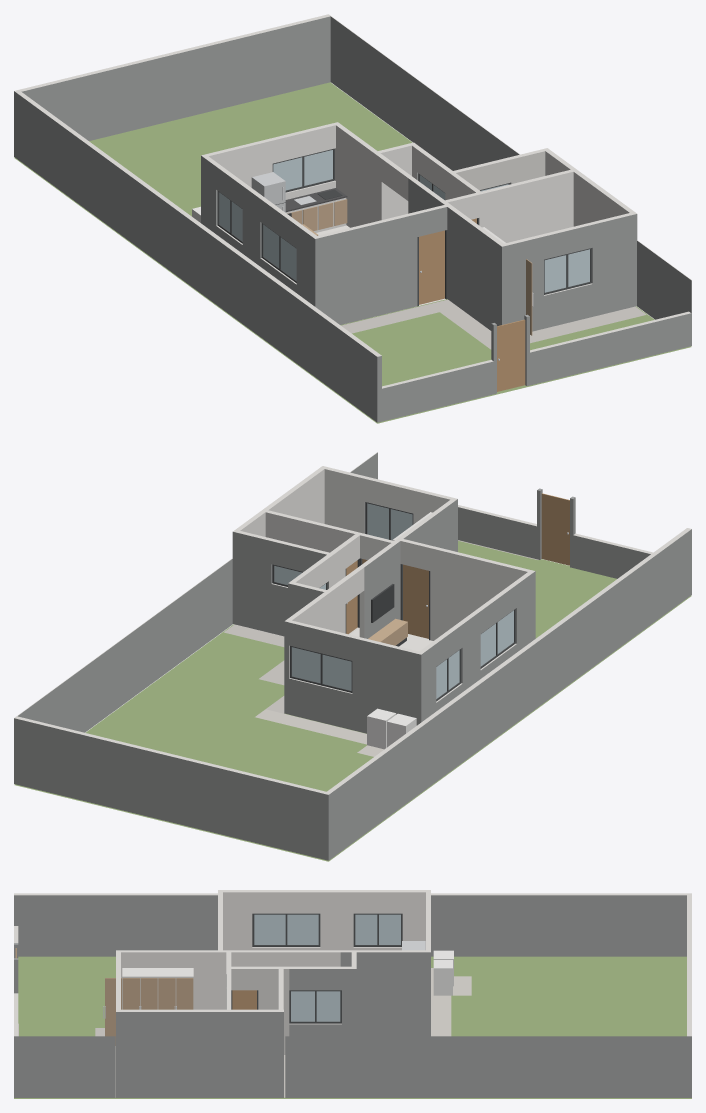
The model's file is casa.glb.
3 renders of one model, top to bottom at view 1: azimuth 30°, elevation 25°; view 2: azimuth 150°, elevation 25°; view 3: azimuth 270°, elevation 25°, orthographic. The views are drawn at different scales.
Parts seen in each view (by area): view 1: fachada, grama, parede, topo, vidro, concreto, revest, door3_swing__porta, esquadria, door1_swing__porta, madeira, inox; view 2: fachada, grama, parede, topo, vidro, revest, door3_swing__porta, esquadria, door1_swing__porta, louca, externo, concreto (+2 smaller); view 3: fachada, grama, parede, topo, vidro, madeira, revest, esquadria, externo, louca, armario, door2_swing__porta.
Boxes of the visible parts, bbox=[...] form: fachada: bbox=[14, 16, 691, 422]; grama: bbox=[14, 82, 691, 423]; parede: bbox=[209, 125, 629, 242]; topo: bbox=[14, 14, 691, 388]; vidro: bbox=[219, 150, 589, 292]; concreto: bbox=[341, 299, 646, 349]; revest: bbox=[456, 151, 545, 190]; door3_swing__porta: bbox=[497, 319, 525, 391]; esquadria: bbox=[217, 148, 591, 305]; door1_swing__porta: bbox=[419, 230, 444, 304]; madeira: bbox=[287, 199, 532, 335]; inox: bbox=[251, 172, 316, 212]; fachada: bbox=[14, 452, 691, 860]; grama: bbox=[14, 541, 691, 861]; parede: bbox=[240, 469, 527, 677]; topo: bbox=[14, 452, 691, 794]; vidro: bbox=[274, 503, 513, 698]; revest: bbox=[265, 512, 358, 634]; door3_swing__porta: bbox=[541, 493, 569, 565]; esquadria: bbox=[272, 502, 515, 701]; door1_swing__porta: bbox=[403, 564, 428, 638]; louca: bbox=[367, 708, 416, 749]; externo: bbox=[255, 709, 383, 756]; concreto: bbox=[224, 540, 538, 713]; fachada: bbox=[14, 895, 691, 1097]; grama: bbox=[14, 956, 691, 1098]; parede: bbox=[121, 892, 425, 1009]; topo: bbox=[14, 890, 691, 1036]; vidro: bbox=[254, 914, 400, 1021]; madeira: bbox=[105, 978, 193, 1045]; revest: bbox=[231, 969, 289, 1054]; esquadria: bbox=[226, 913, 402, 1023]; externo: bbox=[431, 968, 471, 1036]; louca: bbox=[433, 950, 453, 995]; armario: bbox=[122, 968, 193, 1009]; door2_swing__porta: bbox=[232, 990, 256, 1009].
Bounding box in the file's own units: 10 × 2.83 × 20.
